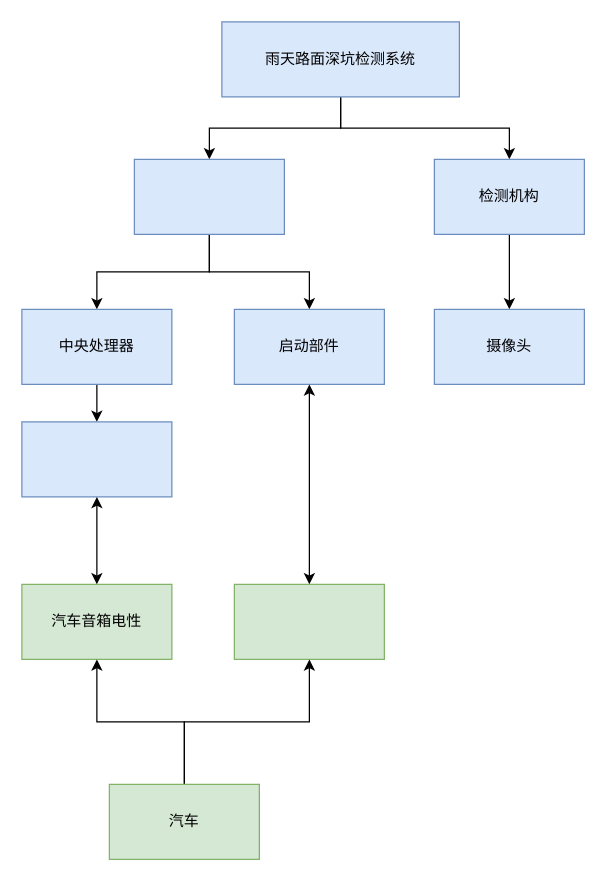
This 606x881 diagram has some shape labels left out. The centre of each missing label's shape, as x and y in pixels:
"控制模块" belongs at [208,196].
"汽车雨刮器" belongs at [308,621].
"语音提示部件" belongs at [96,459].
